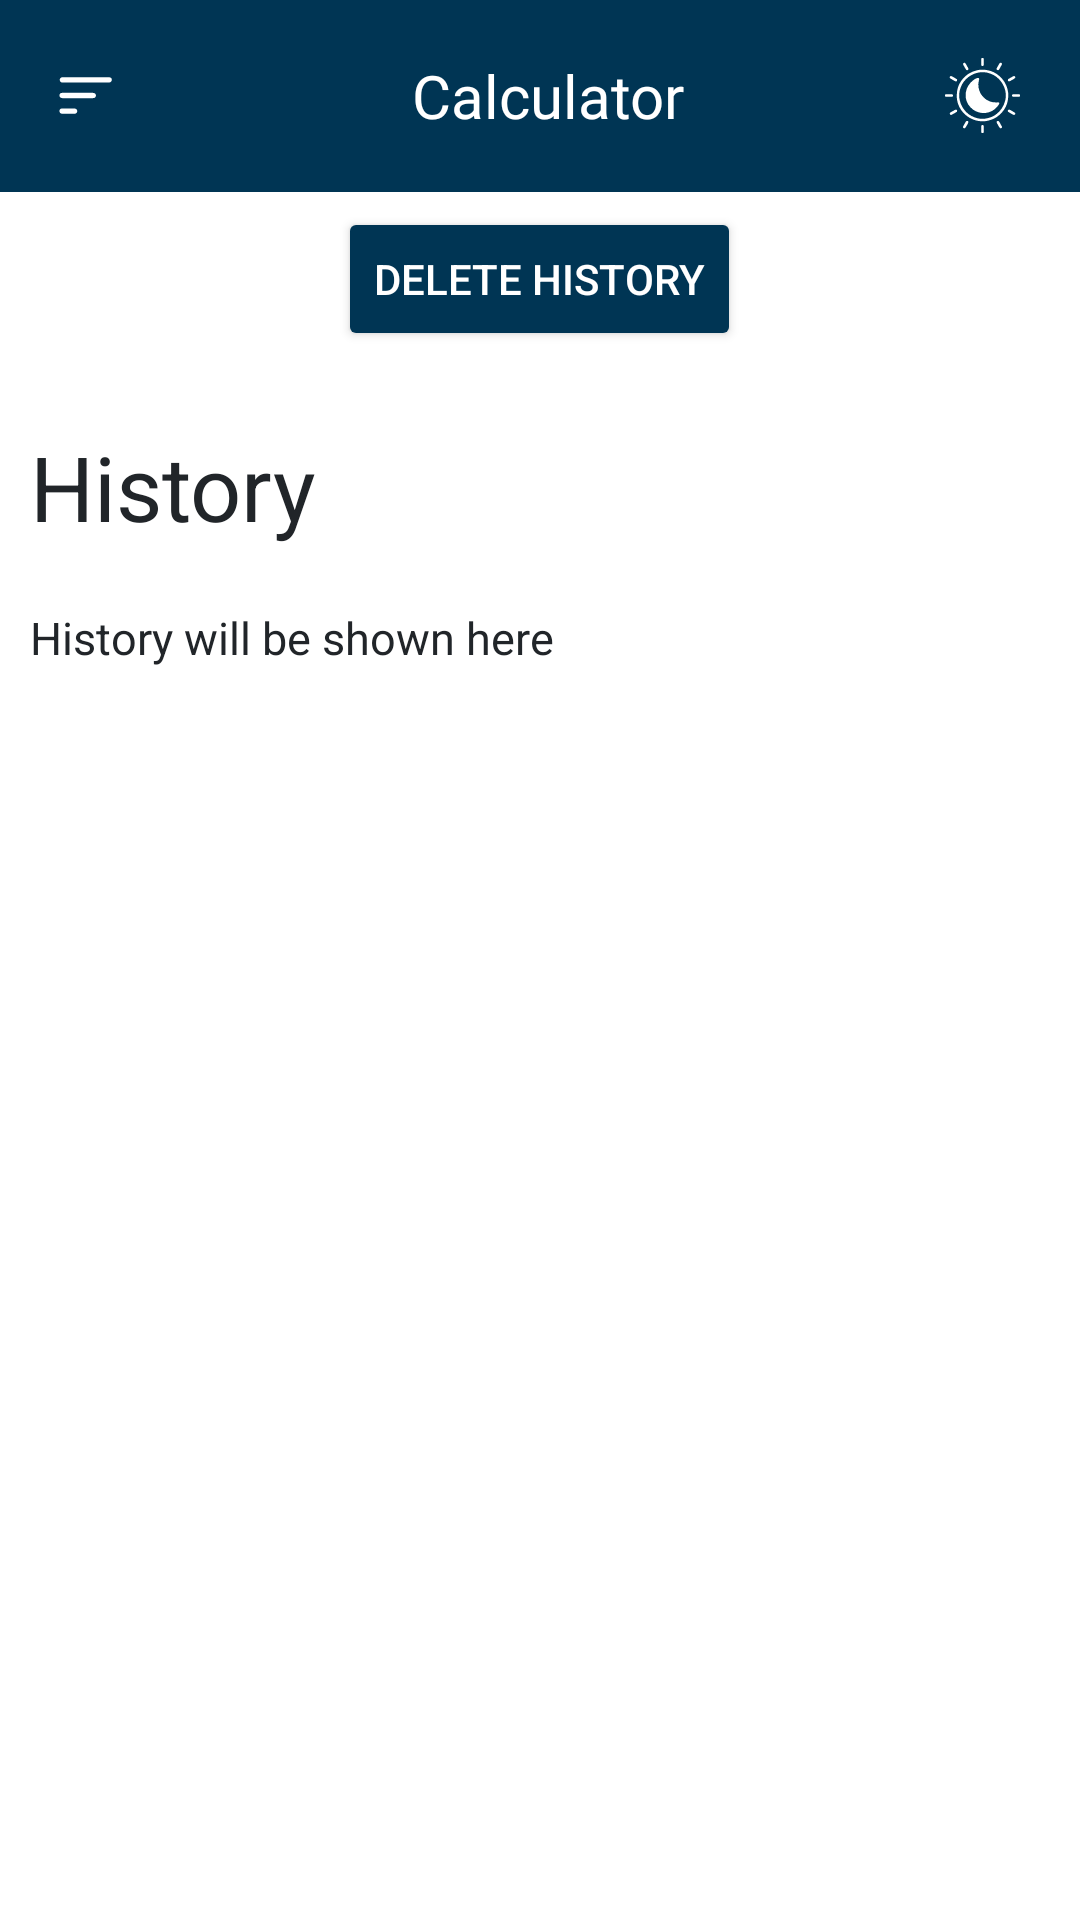

Point at icon controls on the screen. Image size 1080×1920, points as (x,y).
change: (982,95)
option menu: (85,95)
